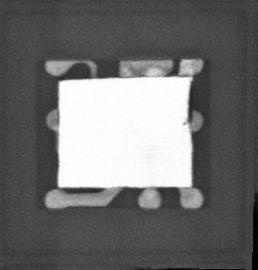DIE_BROKEN: (185, 80, 195, 132)
